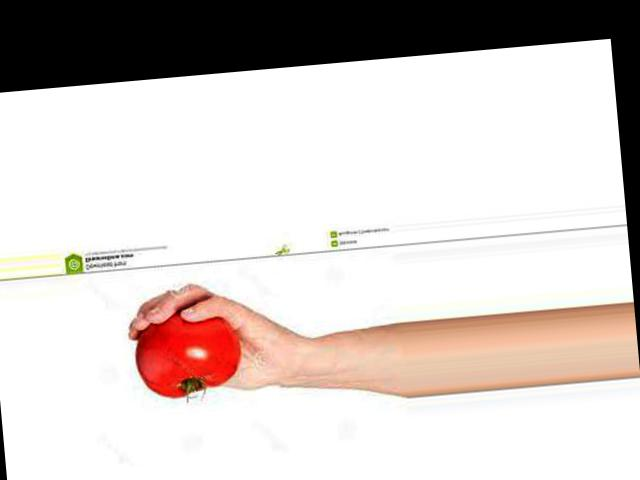tomato: (132, 306, 245, 402)
